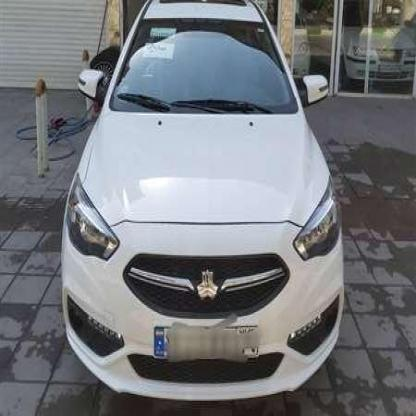Car: (65, 0, 345, 399), (332, 3, 416, 93)
